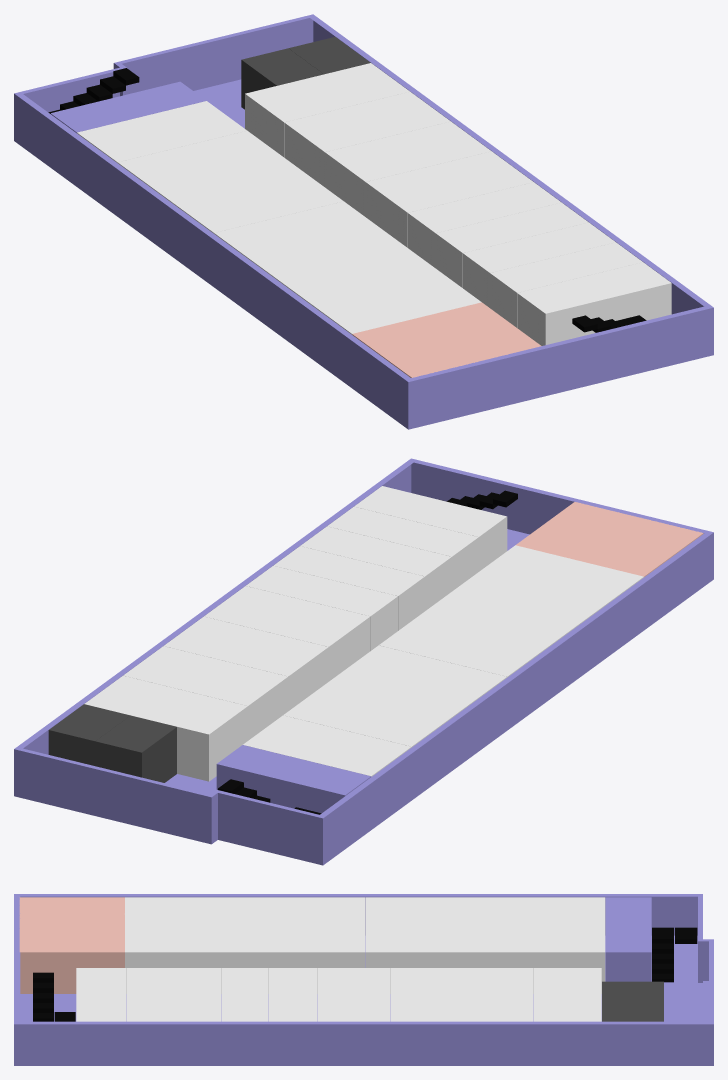
3 renders of one model, top to bottom at view 1: azimuth 30°, elevation 25°; view 2: azimuth 150°, elevation 25°; view 3: azimuth 270°, elevation 25°, orthographic. The views are drawn at different scales.
Visible parts, largest first — view 1: object, 印刷室_3_3_1, 333, 339, 338, 337, 336, 334, 335, 3304研究室, 3307研究室, 3305研究室 (+11 smaller); view 2: object, 336, エレベーター_3_3_1, 333, 339, 338, 337, 334, 335, 印刷室_3_3_1, 3304研究室, 3306研究室 (+10 smaller); view 3: object, 333, 女子トイレ_3_3_1, 334, 335, 339, 337, 338, 336, 332, 3303研究室, 331 (+11 smaller).
Boxes of the visible parts, x1=… form: object: x1=14, y1=14, x2=713, y2=429; 印刷室_3_3_1: x1=517, y1=262, x2=671, y2=345; 333: x1=159, y1=161, x2=343, y2=233; 339: x1=365, y1=151, x2=533, y2=247; 338: x1=325, y1=121, x2=491, y2=216; 337: x1=284, y1=91, x2=450, y2=186; 336: x1=245, y1=63, x2=409, y2=157; 334: x1=117, y1=130, x2=289, y2=193; 335: x1=77, y1=101, x2=246, y2=162; 3304研究室: x1=408, y1=182, x2=561, y2=267; 3307研究室: x1=490, y1=242, x2=642, y2=327; 3305研究室: x1=435, y1=202, x2=588, y2=287; object: x1=14, y1=458, x2=713, y2=865; 336: x1=84, y1=675, x2=247, y2=781; エレベーター_3_3_1: x1=48, y1=704, x2=176, y2=782; 333: x1=325, y1=645, x2=507, y2=716; 339: x1=204, y1=586, x2=370, y2=681; 338: x1=164, y1=616, x2=328, y2=710; 337: x1=123, y1=646, x2=288, y2=740; 334: x1=283, y1=685, x2=453, y2=747; 335: x1=243, y1=715, x2=411, y2=776; 印刷室_3_3_1: x1=354, y1=486, x2=507, y2=571; 3304研究室: x1=246, y1=566, x2=397, y2=650; 3306研究室: x1=300, y1=526, x2=451, y2=610; object: x1=14, y1=894, x2=713, y2=1065; 333: x1=366, y1=897, x2=461, y2=993; 女子トイレ_3_3_1: x1=19, y1=897, x2=83, y2=993; 334: x1=460, y1=897, x2=534, y2=993; 335: x1=534, y1=897, x2=605, y2=993; 339: x1=317, y1=968, x2=390, y2=1021; 337: x1=462, y1=968, x2=532, y2=1021; 338: x1=391, y1=968, x2=461, y2=1021; 336: x1=533, y1=968, x2=601, y2=1021; 332: x1=316, y1=897, x2=365, y2=993; 3303研究室: x1=219, y1=897, x2=268, y2=993; 331: x1=268, y1=897, x2=316, y2=993.
Bounding box in the file's own units: 1.1 × 0.1736 × 2.5.
